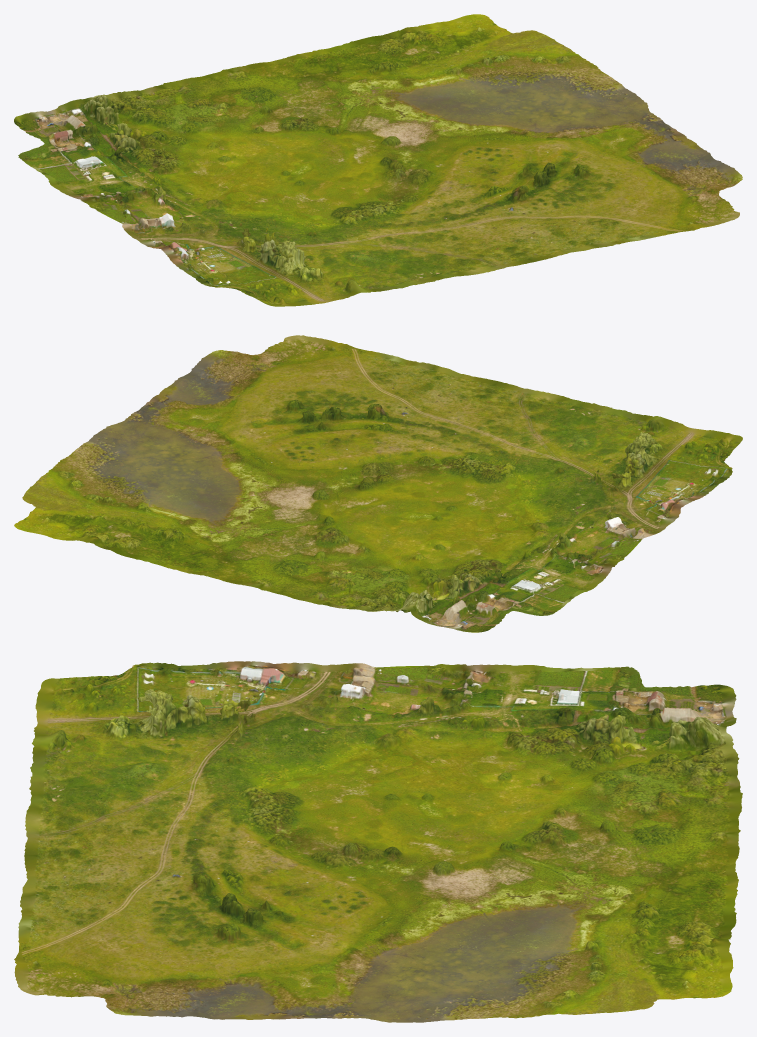
The model's file is map_chapter_one.glb.
The picture shows the model from 3 angles, top to bottom: view 1: azimuth 30°, elevation 25°; view 2: azimuth 150°, elevation 25°; view 3: azimuth 270°, elevation 25°; orthographic projection. The views are drawn at different scales.
Parts seen in each view (by area): view 1: Object_2, Object_3; view 2: Object_2, Object_3; view 3: Object_2, Object_3.
Boxes of the visible parts, box(x1,y1,x2,y2) form: Object_2: box(14, 14, 742, 306); Object_3: box(18, 48, 675, 305); Object_2: box(14, 335, 742, 632); Object_3: box(150, 351, 742, 631); Object_2: box(14, 661, 739, 1022); Object_3: box(18, 661, 742, 955).
Size of the model in its own units: 391 by 26.63 by 348.
1 material, 1 textured.
